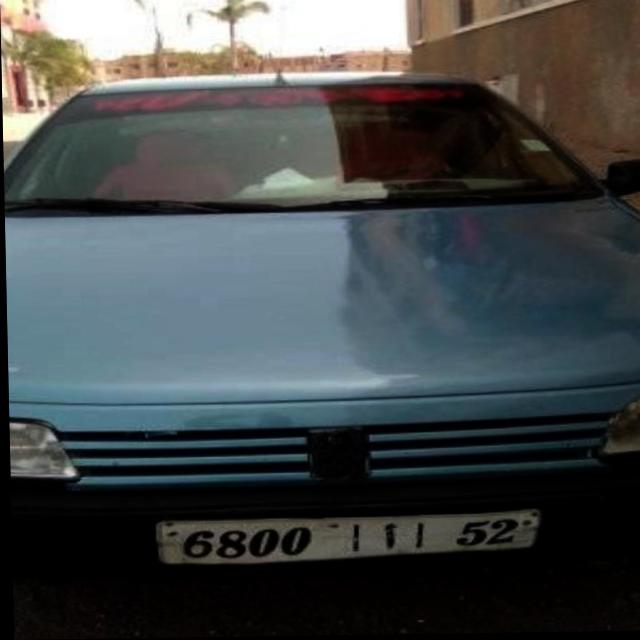License-Plate: (154, 510, 538, 566)
